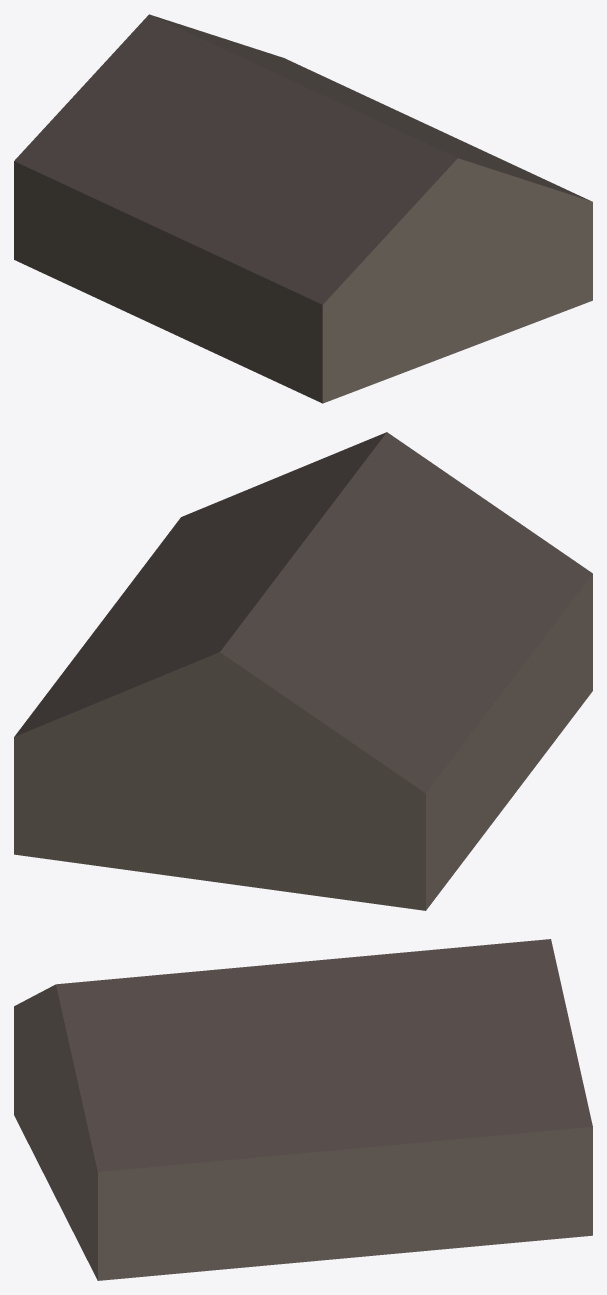
3 renders of one model, top to bottom at view 1: azimuth 30°, elevation 25°; view 2: azimuth 150°, elevation 25°; view 3: azimuth 270°, elevation 25°, orthographic. The views are drawn at different scales.
Visible parts, largest first — view 1: HP-w408450669; view 2: HP-w408450669; view 3: HP-w408450669.
Boxes of the visible parts, bbox=[...] form: HP-w408450669: bbox=[14, 14, 592, 403]; HP-w408450669: bbox=[14, 432, 592, 910]; HP-w408450669: bbox=[14, 939, 592, 1280].
Size of the model in its own units: 12.48 by 5.89 by 14.47.
